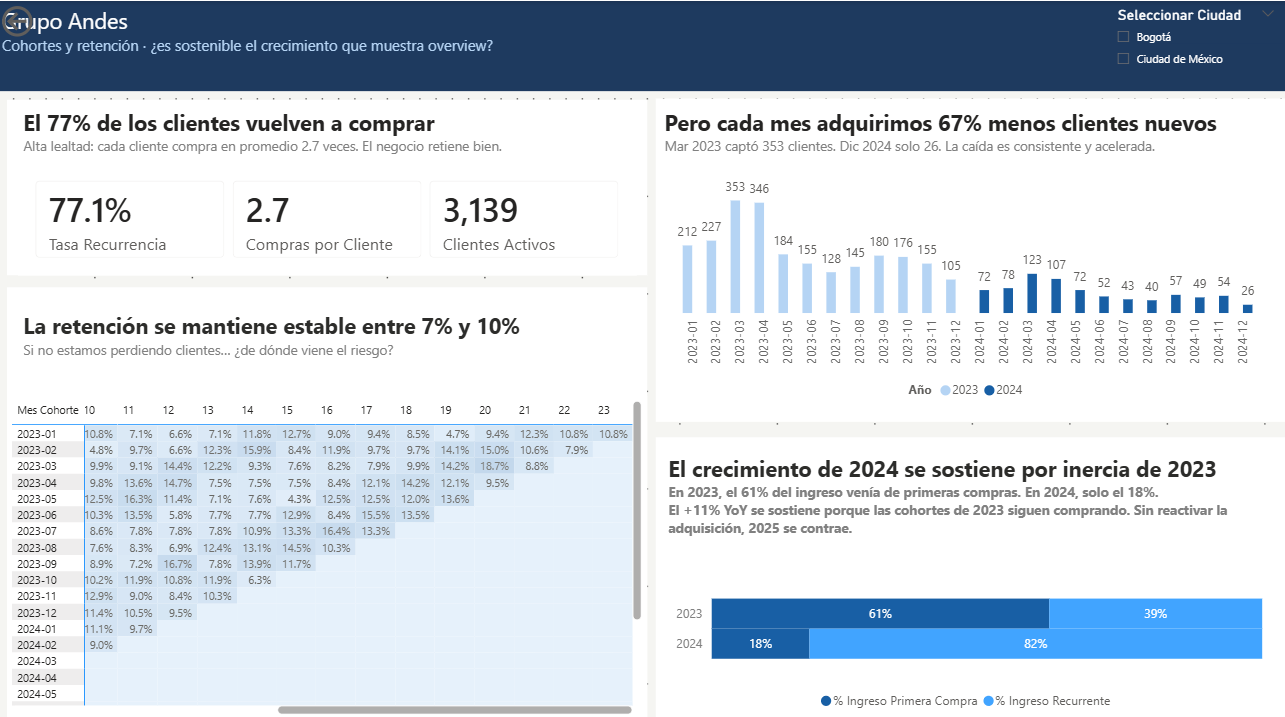

Layout of this report page (visuals, bound fields, positions):
{"tool":"powerbi","page":{"name":"COHORTES Y RETENCIÓN","canvas":[1280,720],"ordinal":2},"visuals":[{"type":"cardVisual","fields":{"Data":["_Medidas.% Participación Segmento"]},"box":[648.6,430,621.4,277.1],"z":0},{"type":"cardVisual","fields":{"Data":["_Medidas.% Participación Segmento"]},"box":[10,281.4,630,425.7],"z":1000},{"type":"cardVisual","fields":{"Data":["_Medidas.% Participación Segmento"]},"box":[648.6,95.7,621.4,318.6],"z":2000},{"type":"cardVisual","fields":{"Data":["_Medidas.% Participación Segmento"]},"box":[10,97.1,630,172.9],"z":3000},{"type":"shape","box":[0,0,1280,88.8],"z":4000},{"type":"textbox","box":[0,0,1280,85.7],"z":5000},{"type":"slicer","fields":{"Values":["dim_propiedades.ciudad"]},"box":[1090,0,180,85.7],"z":6000},{"type":"actionButton","box":[0,0,100,40],"z":7000},{"type":"cardVisual","fields":{"Data":["_Medidas.Tasa Recurrencia","_Medidas.Compras por Cliente","_Medidas.Clientes Activos"]},"box":[21.4,160,608.6,110],"z":8000},{"type":"textbox","box":[21.4,100,608.6,60],"z":9000},{"type":"clusteredColumnChart","fields":{"Category":["fct_ventas.Mes Cohorte"],"Y":["_Medidas.Clientes Nuevos"],"Series":["dim_fecha.Año"]},"box":[661.4,160,590,241.4],"z":10000},{"type":"textbox","box":[652.9,100,608.6,60],"z":11000},{"type":"pivotTable","fields":{"Rows":["fct_ventas.Mes Cohorte"],"Columns":["fct_ventas.Periodos Desde Primera Compra"],"Values":["_Medidas.Tasa de Retención"]},"box":[10,388.6,630,318.6],"z":12000},{"type":"textbox","box":[21.4,300,608.6,88.6],"z":13000},{"type":"textbox","box":[655.7,440,608.6,108.6],"z":14000},{"type":"hundredPercentStackedBarChart","fields":{"Category":["dim_fecha.Año"],"Y":["_Medidas.% Ingreso Primera Compra","_Medidas.% Ingreso Recurrente"]},"box":[661.4,548.6,590,158.6],"z":15000}]}

Visuals, with their boxes in screenshot pixels (x1, y1, x2, y2), scaled from the page's 1280x720 canvas onto the 1285x717 screenshot:
cardVisual - _Medidas.% Participación Segmento: rect(651, 428, 1275, 704)
cardVisual - _Medidas.% Participación Segmento: rect(10, 280, 642, 704)
cardVisual - _Medidas.% Participación Segmento: rect(651, 95, 1275, 413)
cardVisual - _Medidas.% Participación Segmento: rect(10, 97, 642, 269)
shape: rect(0, 0, 1284, 88)
textbox: rect(0, 0, 1284, 85)
slicer - dim_propiedades.ciudad: rect(1094, 0, 1275, 85)
actionButton: rect(0, 0, 100, 40)
cardVisual - _Medidas.Tasa Recurrencia x _Medidas.Compras por Cliente: rect(21, 159, 632, 269)
textbox: rect(21, 100, 632, 159)
clusteredColumnChart - fct_ventas.Mes Cohorte x _Medidas.Clientes Nuevos: rect(664, 159, 1256, 400)
textbox: rect(655, 100, 1266, 159)
pivotTable - fct_ventas.Mes Cohorte x fct_ventas.Periodos Desde Primera Compra: rect(10, 387, 642, 704)
textbox: rect(21, 299, 632, 387)
textbox: rect(658, 438, 1269, 546)
hundredPercentStackedBarChart - dim_fecha.Año x _Medidas.% Ingreso Primera Compra: rect(664, 546, 1256, 704)
